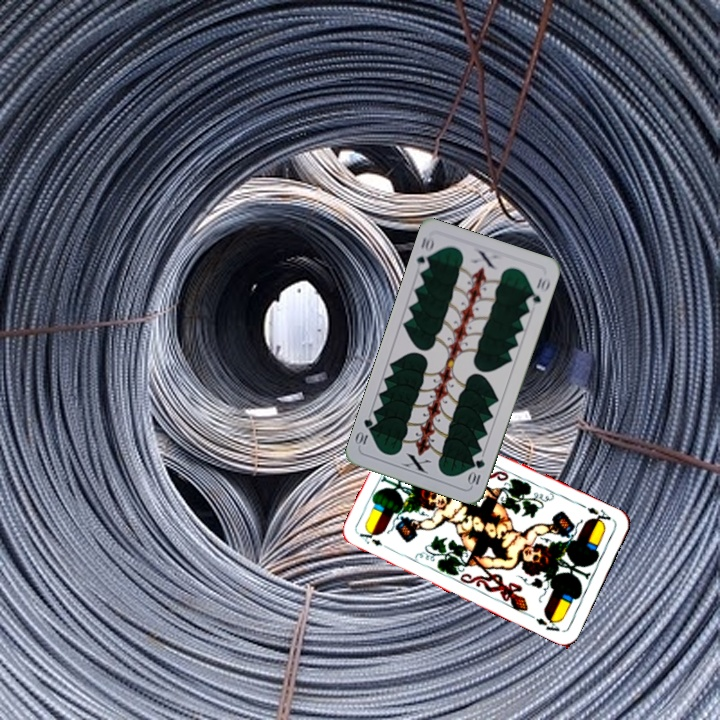EA: (355, 526, 393, 552), (583, 503, 614, 528)
G10: (412, 232, 437, 274), (465, 455, 487, 489)
